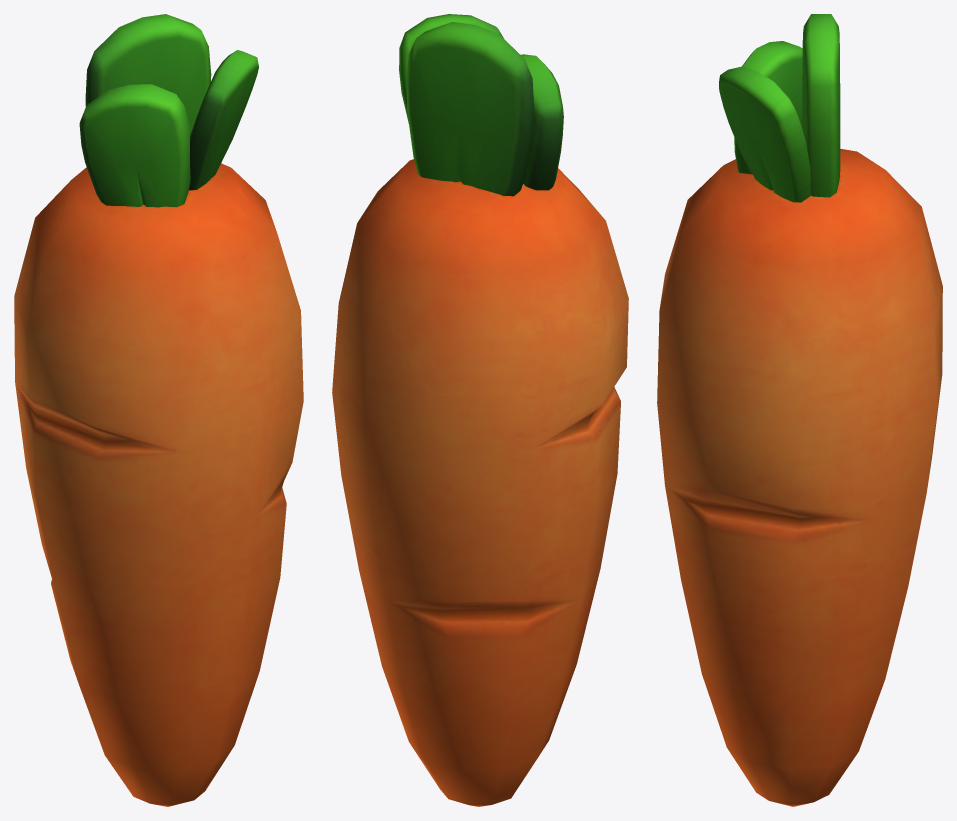
Rendered from 0-carrot.fbx.
3 views of the same model, side by side, from view 1: azimuth 30°, elevation 25°; view 2: azimuth 150°, elevation 25°; view 3: azimuth 270°, elevation 25° (orthographic).
Visible parts, largest first — view 1: 0-carrot; view 2: 0-carrot; view 3: 0-carrot.
Boxes of the visible parts, x1=… form: 0-carrot: x1=14, y1=14, x2=303, y2=806; 0-carrot: x1=332, y1=14, x2=628, y2=806; 0-carrot: x1=657, y1=14, x2=942, y2=806.
Size of the model in its own units: 32.27 by 94.56 by 31.32.
